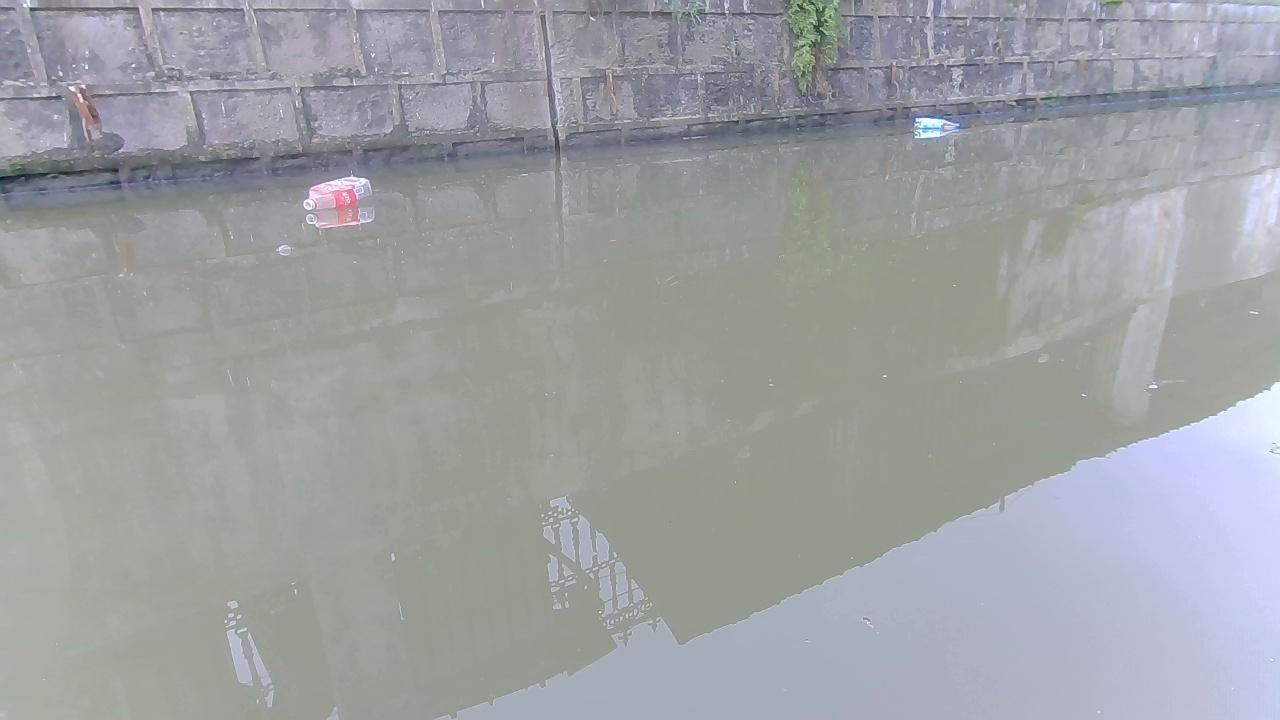bottle: (297, 176, 379, 212), (906, 114, 958, 137)
